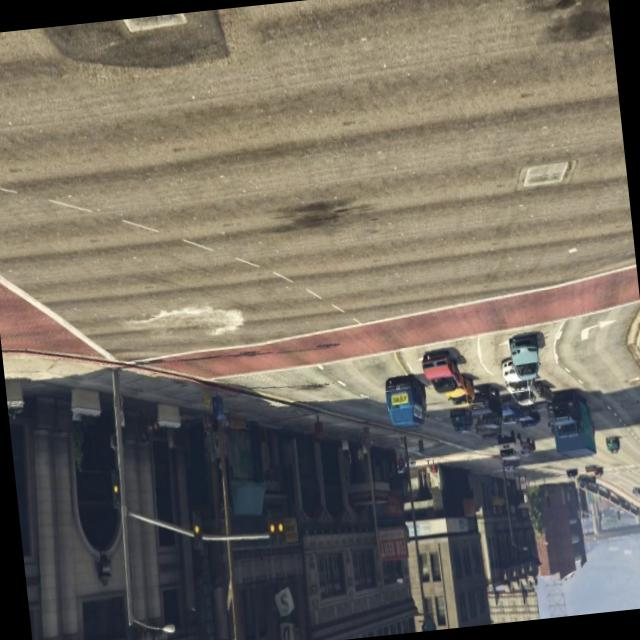Yellow-Signal: (261, 494, 290, 556), (103, 456, 126, 520), (186, 497, 207, 556)
